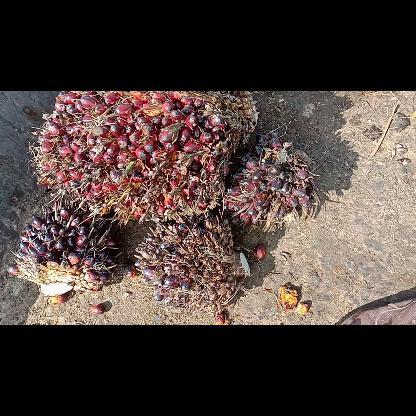TBS abnormal: (135, 220, 247, 306), (8, 210, 110, 298), (228, 138, 318, 224)
TBS masak: (32, 91, 258, 221)
